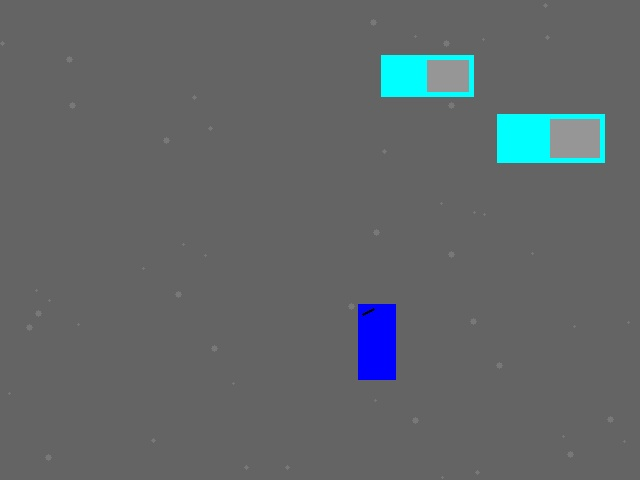motorcycle: (358, 304, 395, 379)
truck: (497, 114, 604, 162), (381, 55, 473, 96)
